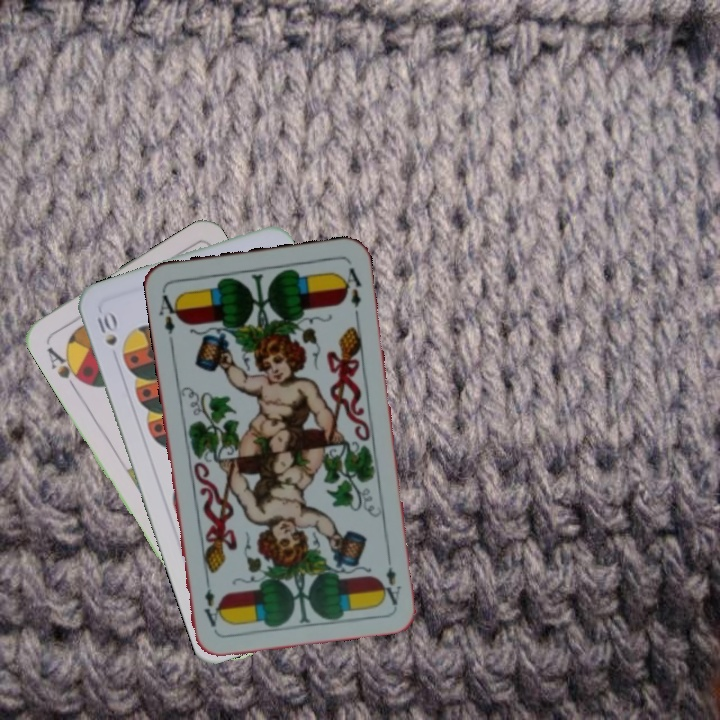EA: (380, 549, 404, 608), (155, 287, 183, 337)
S10: (91, 307, 120, 348)
SA: (42, 343, 88, 393)
